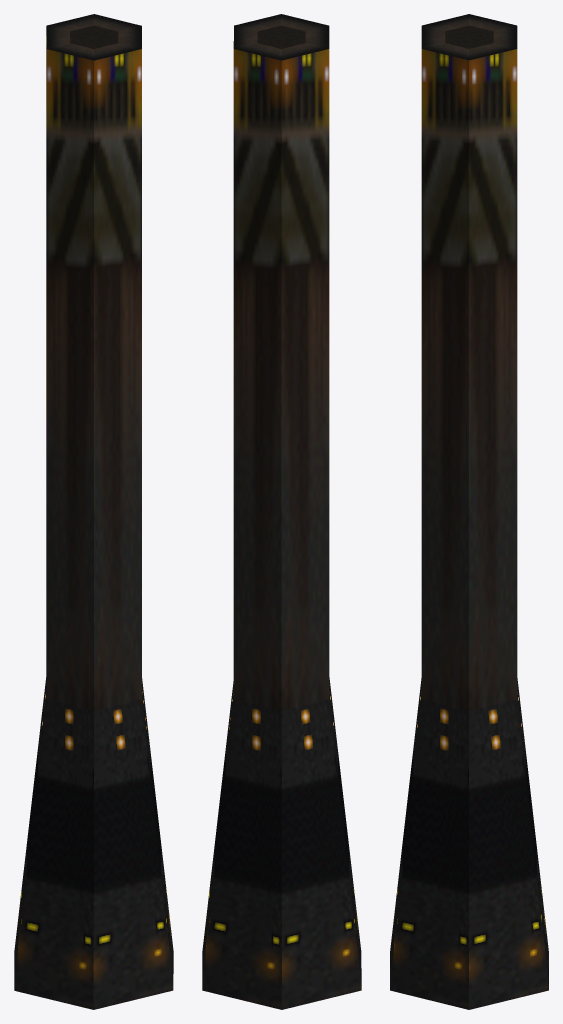
The model's file is prop-063.glb.
3 renders of one model, left to right at view 1: azimuth 30°, elevation 25°; view 2: azimuth 150°, elevation 25°; view 3: azimuth 270°, elevation 25°, orthographic.
Visible parts, largest first — view 1: root; view 2: root; view 3: root.
Boxes of the visible parts, left/top/right/bottom form: root: left=14, top=14, right=173, bottom=1009; root: left=202, top=14, right=361, bottom=1009; root: left=390, top=14, right=548, bottom=1009.
Size of the model in its own units: 0.5 by 2.8 by 0.4316.
1 material, 1 textured.
